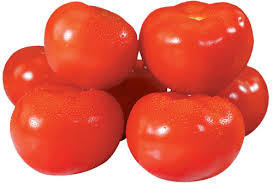tomato: (140, 2, 253, 93), (43, 1, 138, 88)
